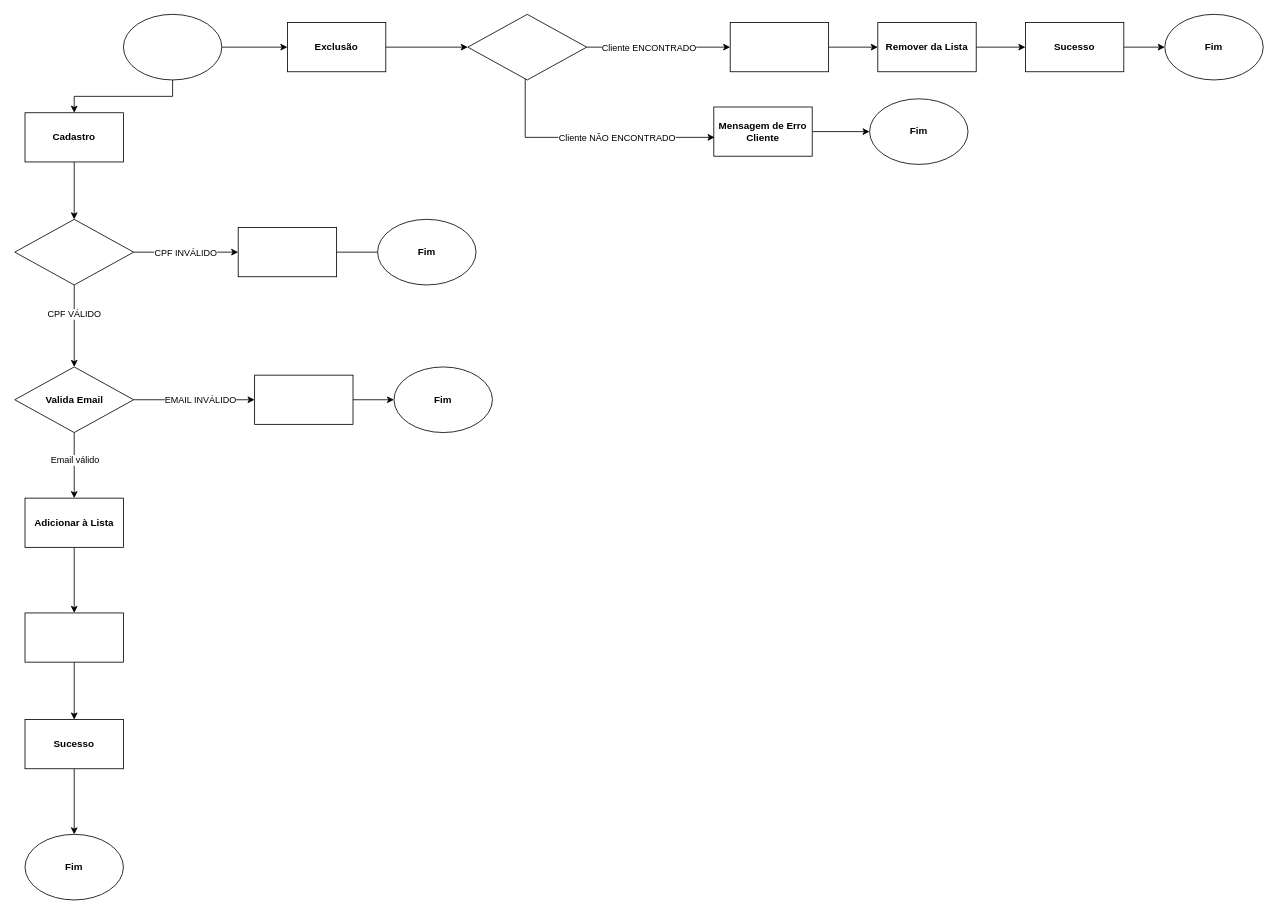
Image size: 1278x914. Some labels were removed from this diagram. Here are the shapes that lost their labels. From the top down, the centre of each, then its label:
At pixel 172 47: "Inicio".
At pixel 527 47: "Verifica Cliente na Lista".
At pixel 779 47: "Gerar PDF Exclusão".
At pixel 74 252: "Valida CPF".
At pixel 287 252: "Mensagem de Erro CPF".
At pixel 303 399: "Mensagem de Erro Email".
At pixel 73 637: "Gerar PDF de Cadastro".
